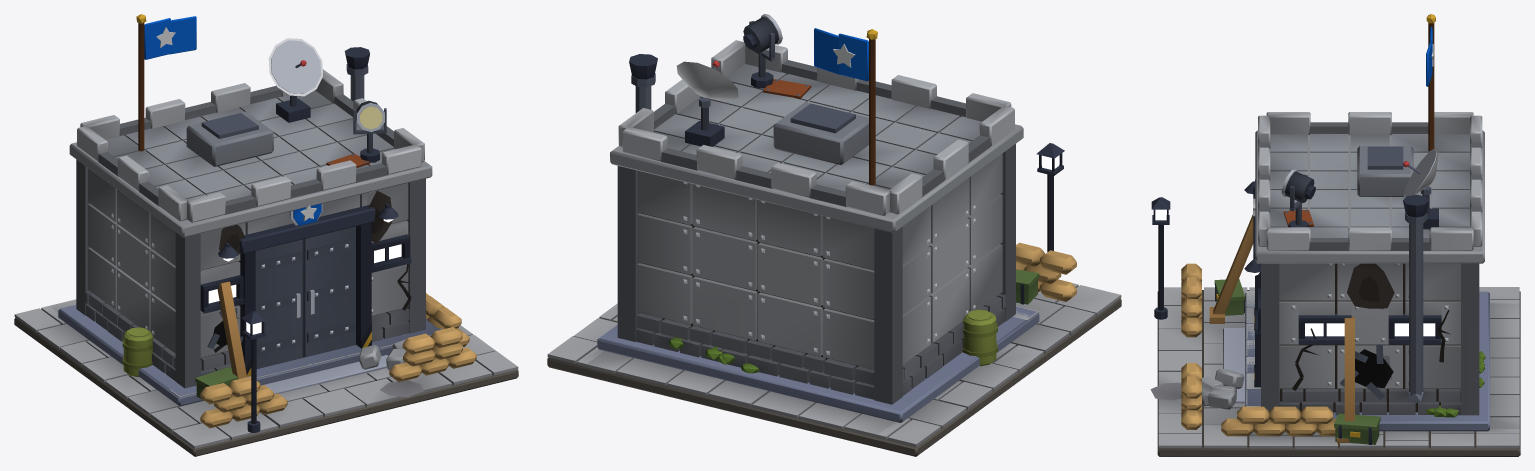
Rendered from b_bunker_1.glb.
The picture shows the model from 3 angles, left to right: view 1: azimuth 30°, elevation 25°; view 2: azimuth 150°, elevation 25°; view 3: azimuth 270°, elevation 25°; orthographic projection. The views are drawn at different scales.
Parts seen in each view (by area): view 1: body, lv2_extra, dmg2_bruch, spin_schuessel, sway_flag, dmg1_spuren, sway_scheinwerfer, win_glow; view 2: body, lv2_extra, sway_flag, spin_schuessel, sway_scheinwerfer; view 3: body, dmg2_bruch, lv2_extra, dmg1_spuren, spin_schuessel, sway_scheinwerfer, win_glow.
Boxes of the visible parts, x1,y1,x2,y2 form: body: [14, 14, 518, 456]; lv2_extra: [122, 311, 462, 432]; dmg2_bruch: [207, 281, 406, 379]; spin_schuessel: [268, 38, 322, 96]; sway_flag: [144, 16, 196, 59]; dmg1_spuren: [214, 190, 411, 352]; sway_scheinwerfer: [353, 100, 386, 134]; win_glow: [208, 244, 401, 303]; body: [547, 29, 1121, 456]; lv2_extra: [962, 143, 1076, 365]; sway_flag: [814, 28, 868, 81]; spin_schuessel: [676, 60, 738, 107]; sway_scheinwerfer: [743, 14, 782, 61]; body: [1150, 14, 1520, 456]; dmg2_bruch: [1202, 214, 1393, 445]; lv2_extra: [1151, 197, 1380, 444]; dmg1_spuren: [1292, 263, 1450, 390]; spin_schuessel: [1403, 147, 1438, 197]; sway_scheinwerfer: [1281, 169, 1315, 211]; win_glow: [1305, 323, 1435, 336].
Bounding box in the file's own units: 7.4 × 7.04 × 7.26.
